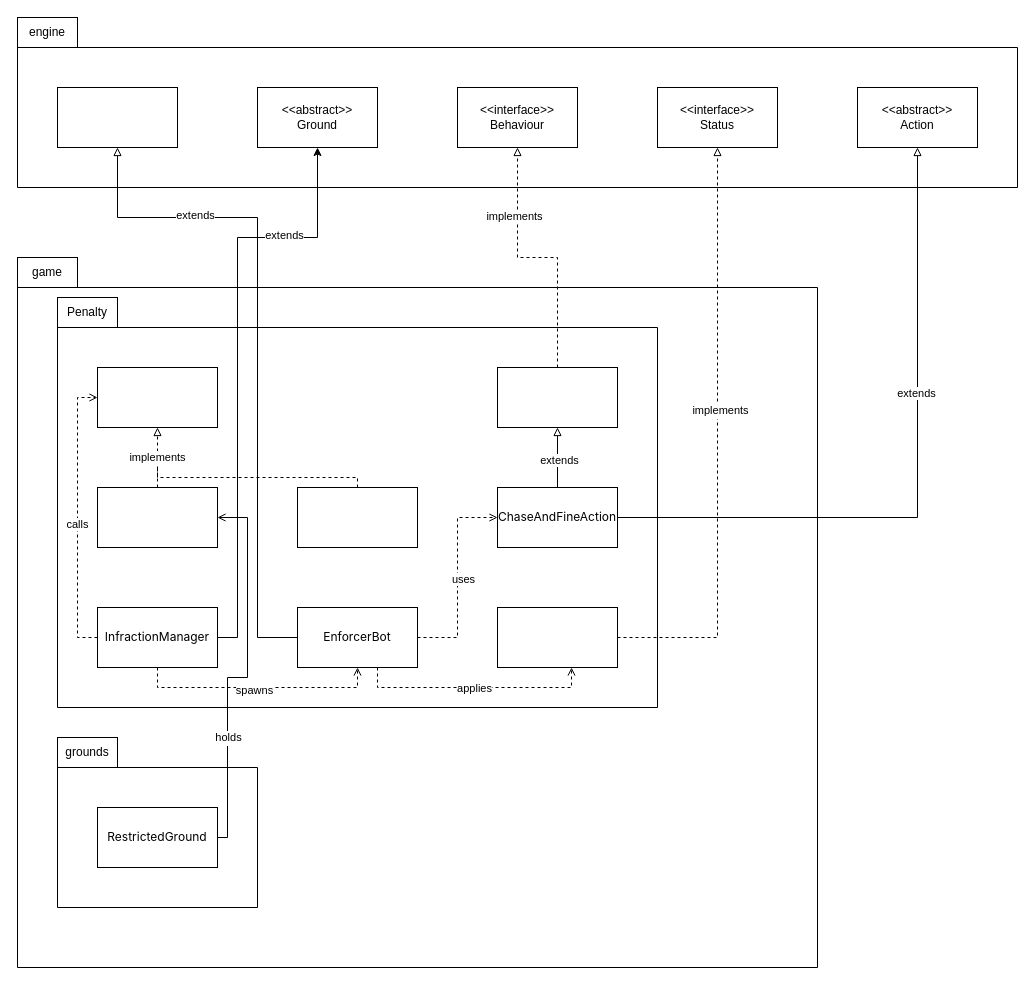
Image size: 1035x985. Some labels were removed from this diagram. The box of each missing label's shape, as (x1, y1, x2, y2) in pixels:
<<abstract>> Actor: (56, 86, 178, 148)
<<abstract>> EnforcerBehaviour: (496, 366, 618, 428)
<<interface>> InfractionTrigger: (96, 366, 218, 428)
FriendlyFireTrigger: (296, 486, 418, 548)
LockedOutStatus: (496, 606, 618, 668)
ZoneTrespassTrigger: (96, 486, 218, 548)
